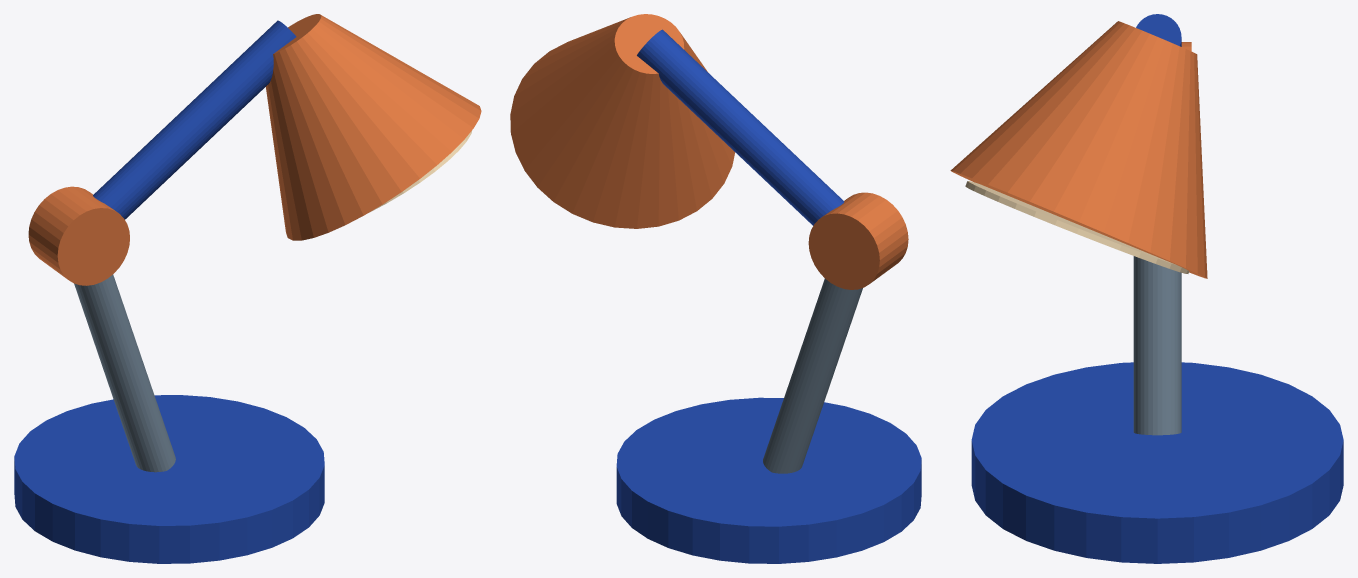
Rendered from lamp.glb.
3 views of the same model, side by side, from view 1: azimuth 30°, elevation 25°; view 2: azimuth 150°, elevation 25°; view 3: azimuth 270°, elevation 25° (orthographic). The views are drawn at different scales.
Parts seen in each view (by area): view 1: base, shade, upper arm, lower arm, joint; view 2: base, shade, upper arm, lower arm, joint; view 3: base, shade, lower arm, diffuser, upper arm.
Part boxes in pixels (x1=…): base: x1=14, y1=395, x2=324, y2=563; shade: x1=266, y1=14, x2=481, y2=240; upper arm: x1=93, y1=20, x2=296, y2=219; lower arm: x1=74, y1=274, x2=175, y2=472; joint: x1=28, y1=186, x2=129, y2=285; base: x1=616, y1=397, x2=921, y2=563; shade: x1=510, y1=14, x2=735, y2=228; upper arm: x1=637, y1=29, x2=844, y2=225; lower arm: x1=763, y1=278, x2=862, y2=473; joint: x1=808, y1=192, x2=908, y2=289; base: x1=971, y1=362, x2=1343, y2=563; shade: x1=950, y1=21, x2=1207, y2=278; lower arm: x1=1133, y1=256, x2=1181, y2=435; diffuser: x1=965, y1=181, x2=1189, y2=273; upper arm: x1=1136, y1=14, x2=1181, y2=46.
Bounding box in the file's own units: 1.58 × 1.67 × 1.1.
